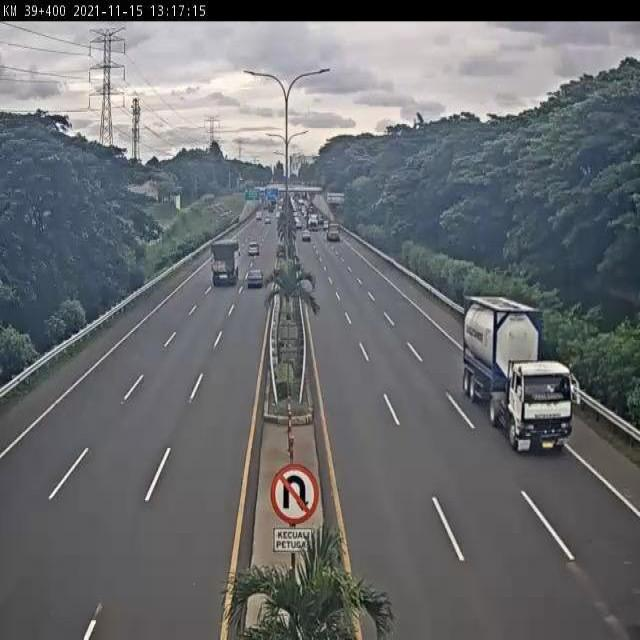car: (245, 267, 265, 289)
truck-l-: (210, 236, 241, 288)
truck-xl-: (460, 291, 575, 453)
